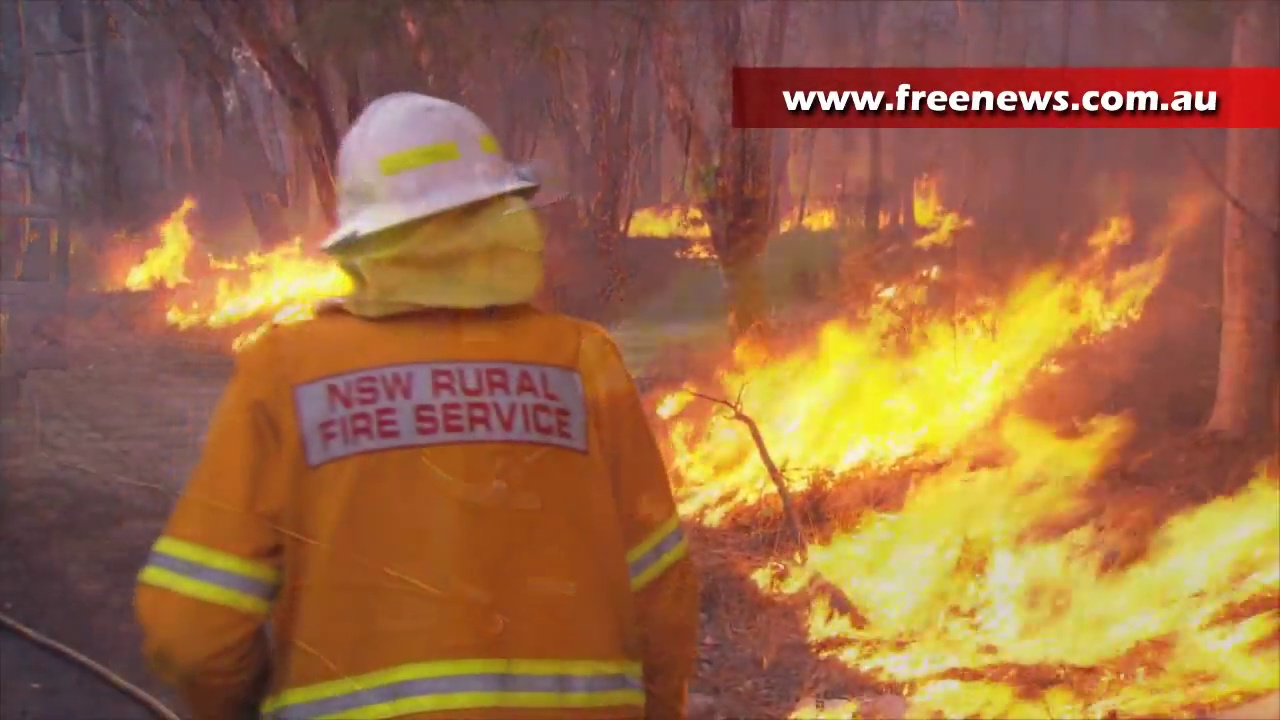fire: (757, 411, 1278, 720), (661, 245, 1177, 523), (194, 241, 352, 337), (125, 199, 198, 298), (913, 169, 965, 241), (624, 210, 709, 242)
